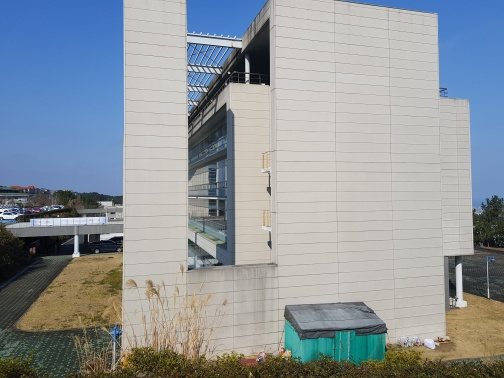Engineering College Building 4: (124, 4, 472, 352), (279, 18, 440, 352), (182, 84, 270, 260)
